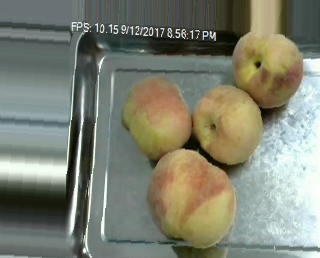Peach: (146, 149, 234, 249), (120, 72, 191, 159), (232, 27, 302, 110), (192, 85, 263, 164)
